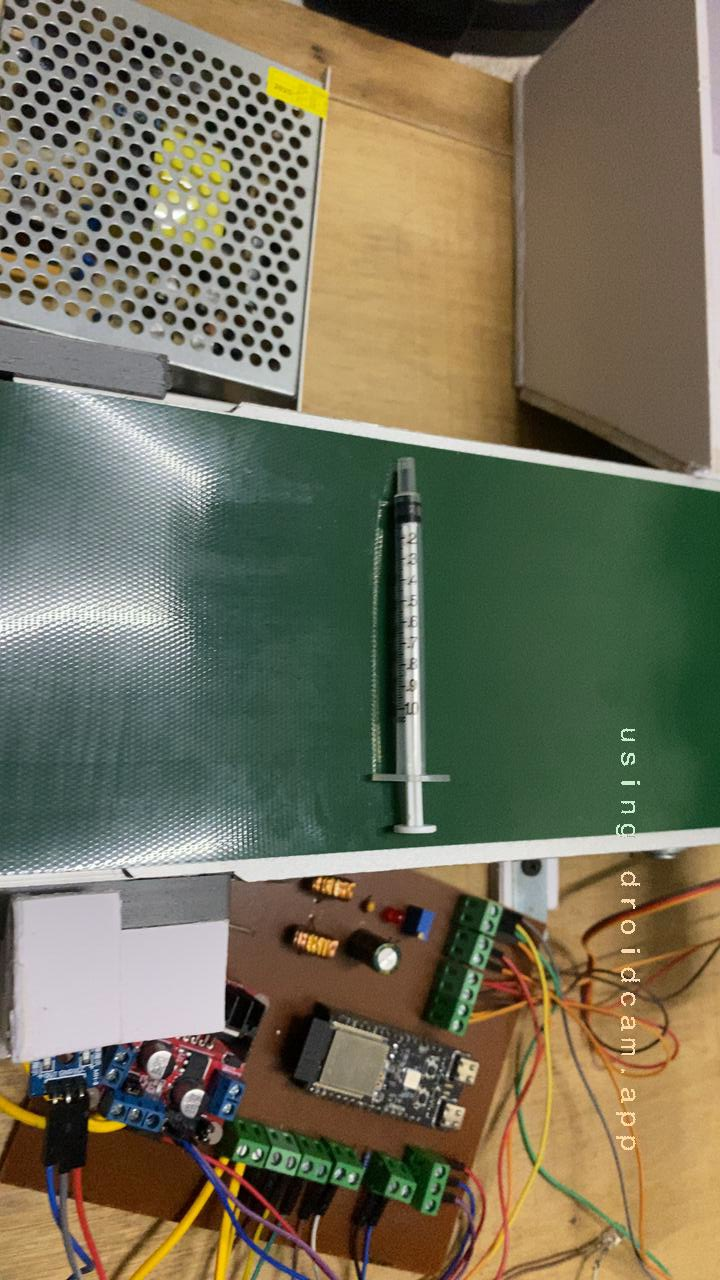syringe: (325, 476, 469, 848)
